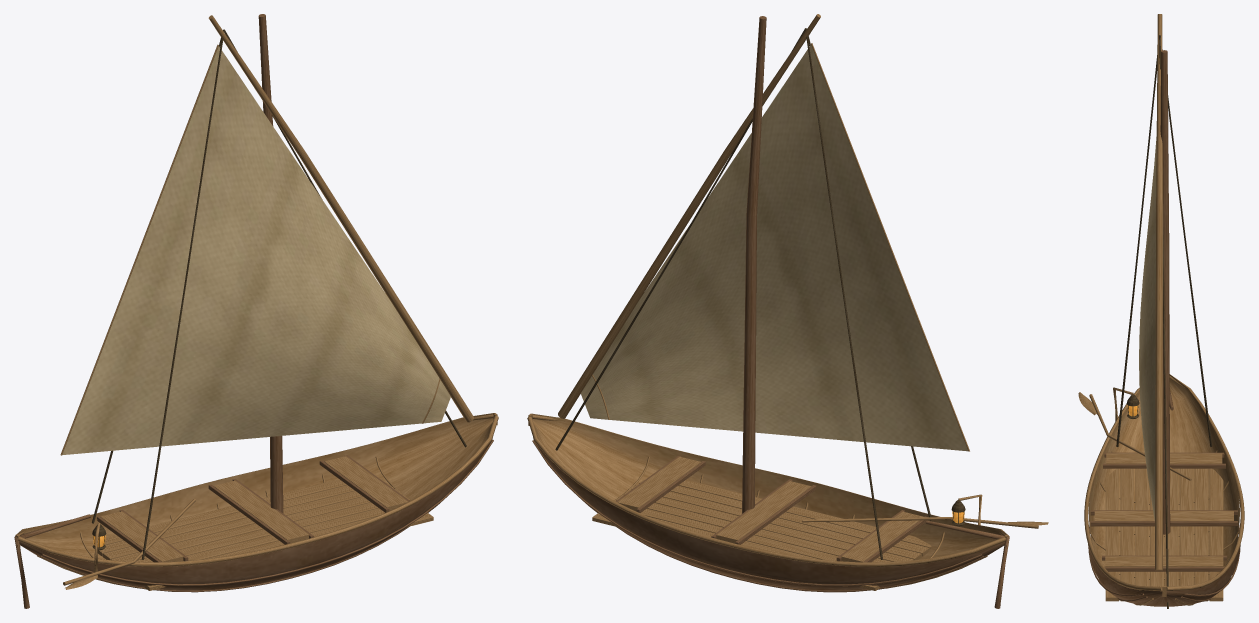
File: nile_felucca.glb
The picture shows the model from 3 angles, left to right: view 1: azimuth 30°, elevation 25°; view 2: azimuth 150°, elevation 25°; view 3: azimuth 270°, elevation 25°; orthographic projection. The views are drawn at different scales.
Parts seen in each view (by area): view 1: nile_felucca; view 2: nile_felucca; view 3: nile_felucca.
Boxes of the visible parts, box(x1,y1,x2,y2) form: nile_felucca: box(14, 14, 498, 608); nile_felucca: box(527, 14, 1048, 608); nile_felucca: box(1078, 14, 1244, 608).
Size of the model in its own units: 5.2 by 5.8 by 1.65.
3 materials, 3 textured.
